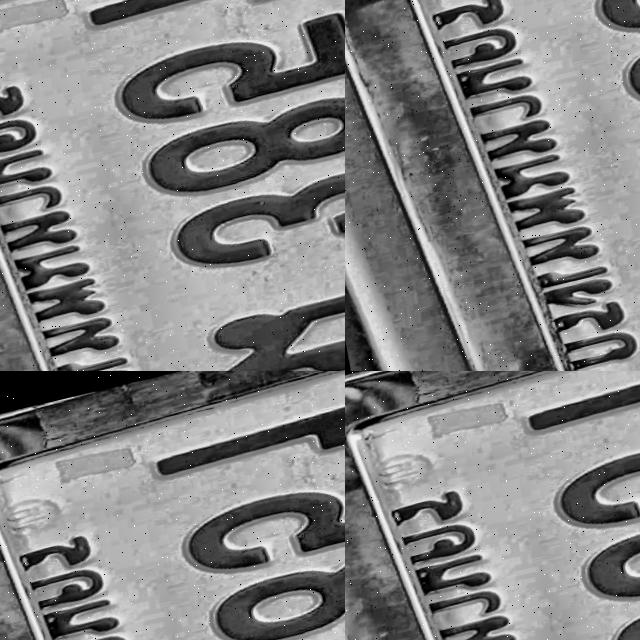license-plate: (345, 371, 640, 640)
